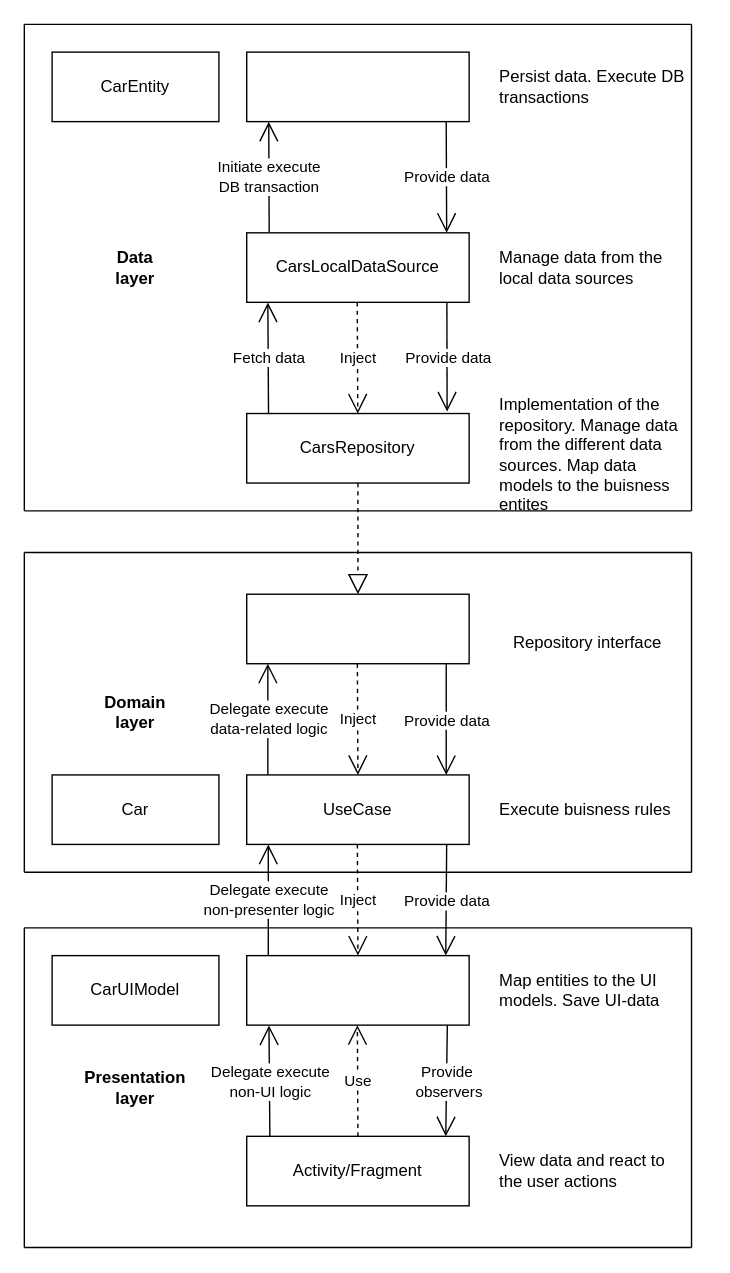
The diagram is 730 pixels wide and 1273 high, and some of its shapes have lost their labels. The centre of each missing label's shape, as x and y in pixels:
"ICarsRepository" belongs at [357,628].
"Room DB" belongs at [357,86].
"ViewModel" belongs at [357,989].
